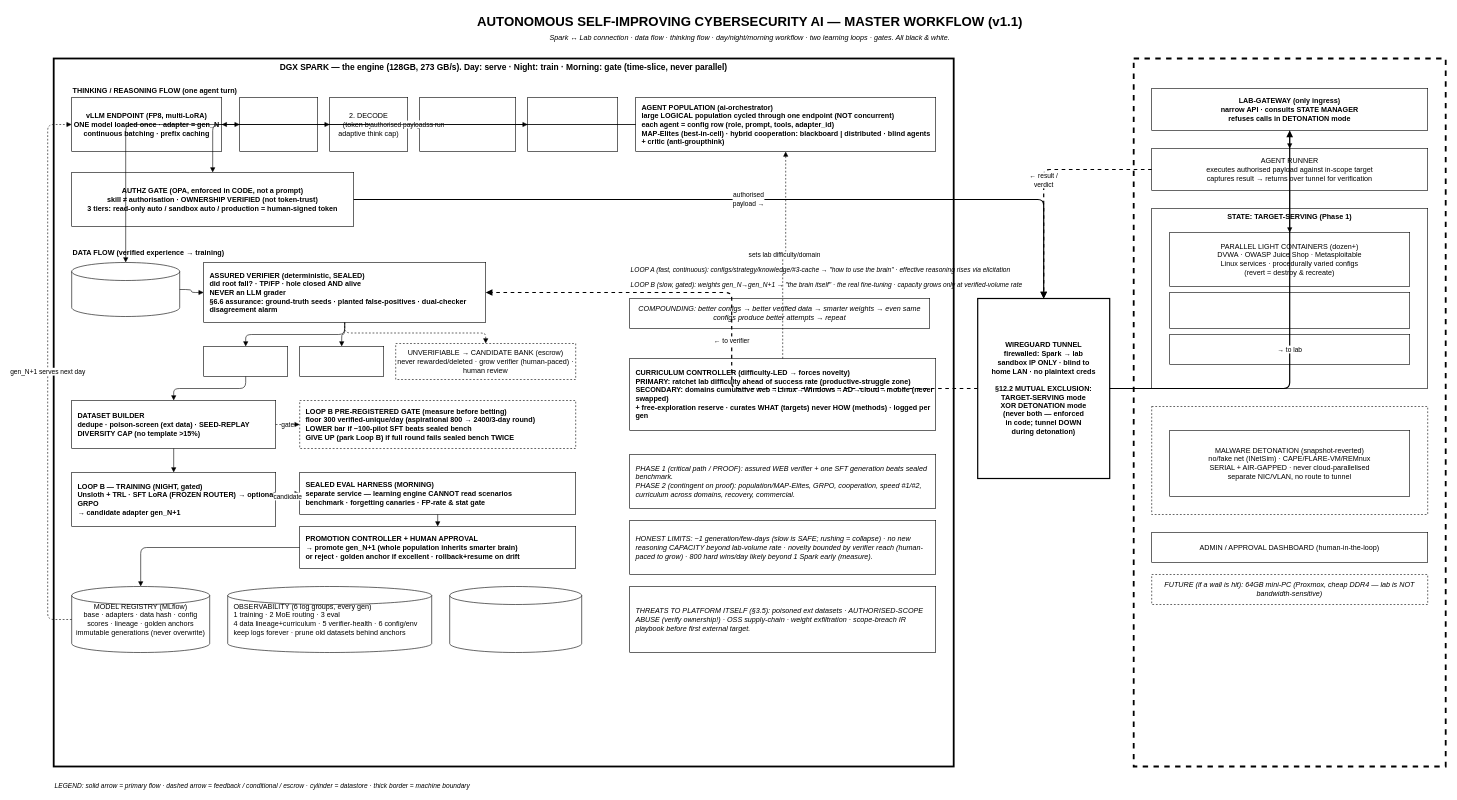
This 1457x800 diagram has some shape labels left out. The shapes that lost their labels are listed below. From the top down, each one's box as (x1, y1, x2, y2) in pixels, then its label:
(239, 97, 318, 152): 1. PREFILL (read prompt, fill KV cache)
(419, 97, 516, 152): 3. TOOL LOOP try → observe → adjust (nmap/shell/CVE-mirror) repeat until done
(527, 97, 618, 152): 4. TRAJECTORY (provenance-tagged) → trajectory store
(71, 262, 180, 316): TRAJECTORY STORE Postgres + object store (provenance-tagged)
(1169, 292, 1410, 328): SEQUENCED HEAVY VMs (one at a time) Windows analysis VM · full AD lab (Phase 2)
(203, 346, 288, 376): VERIFIED → training data
(299, 346, 384, 376): FAILED → analysis
(1169, 334, 1410, 364): Atomic Red Team scenarios (known answer keys)
(1132, 57, 1446, 767): ISOLATED LAB — HP laptop (32GB), air-gapped, nothing personal
(1151, 406, 1428, 514): STATE: DETONATION (Phase 2) — TUNNEL DOWN, no route to gateway
(449, 586, 582, 652): LOCAL MIRRORS CVE/NVD/KEV/ATT&CK (agent lookups, no raw internet)
